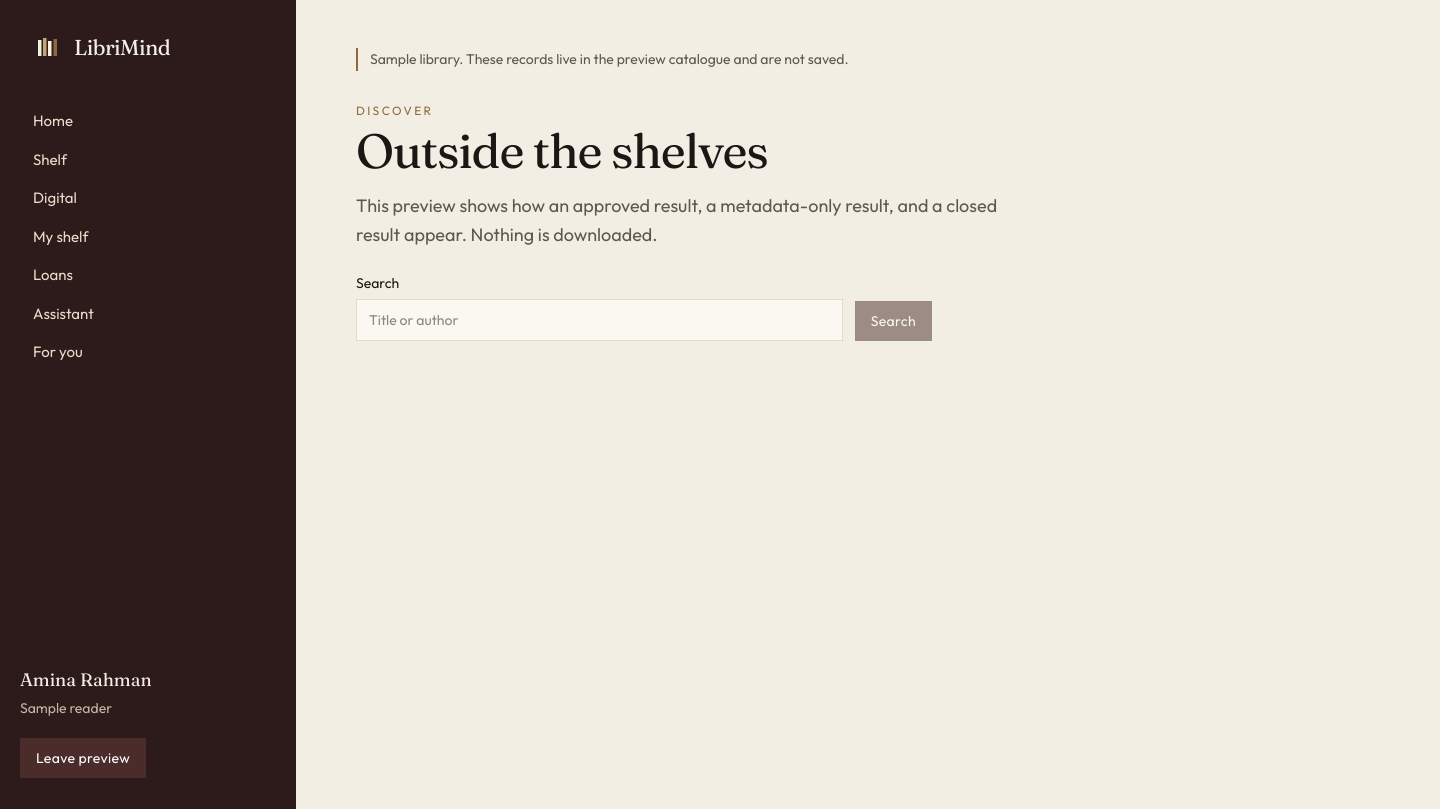
discover › shows a permitted result and a result that cannot be saved
Type "plato" into the field labelled "Search" at coordinates (599, 320), box [356, 299, 843, 341]
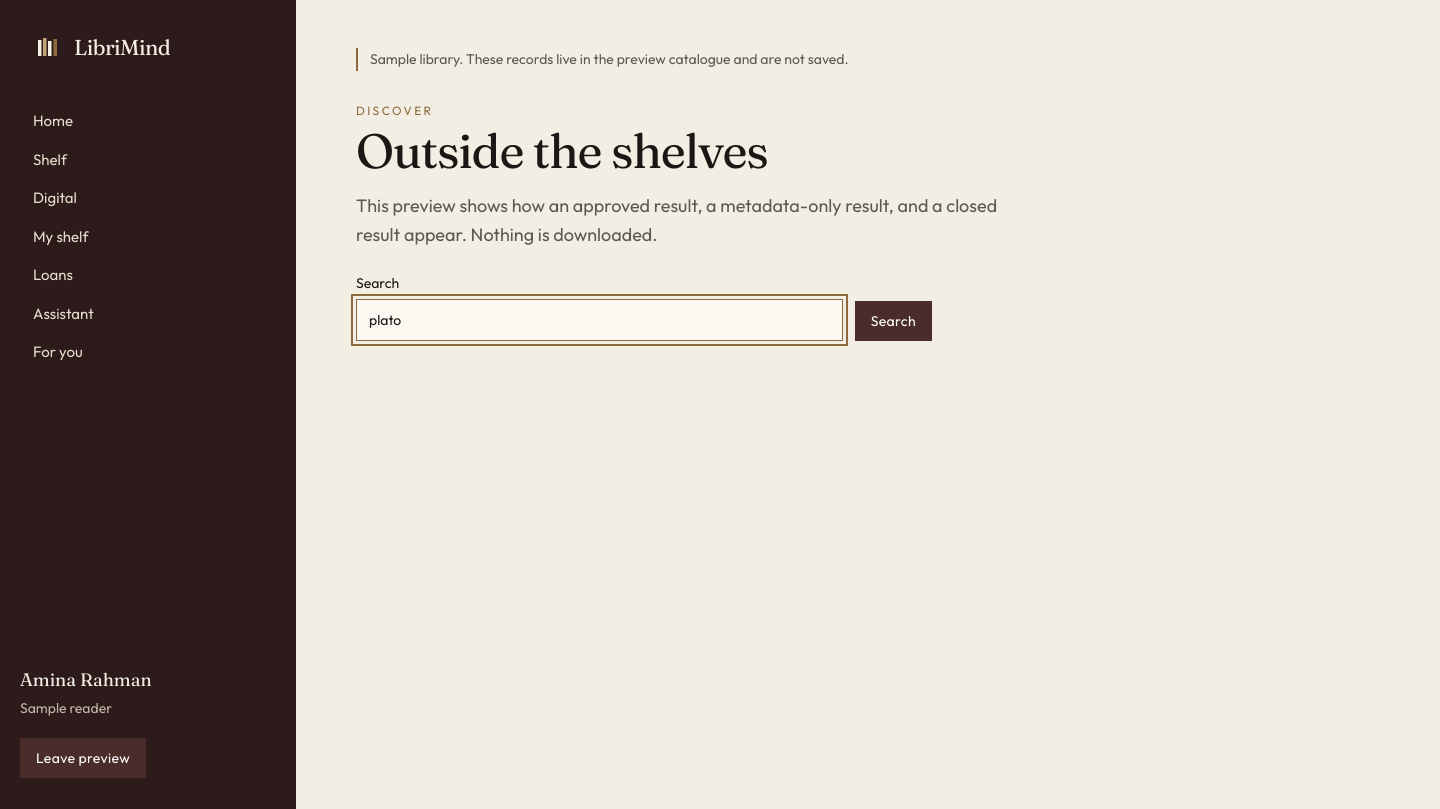
Click the button "Search" at coordinates (893, 321), box [855, 301, 932, 341]
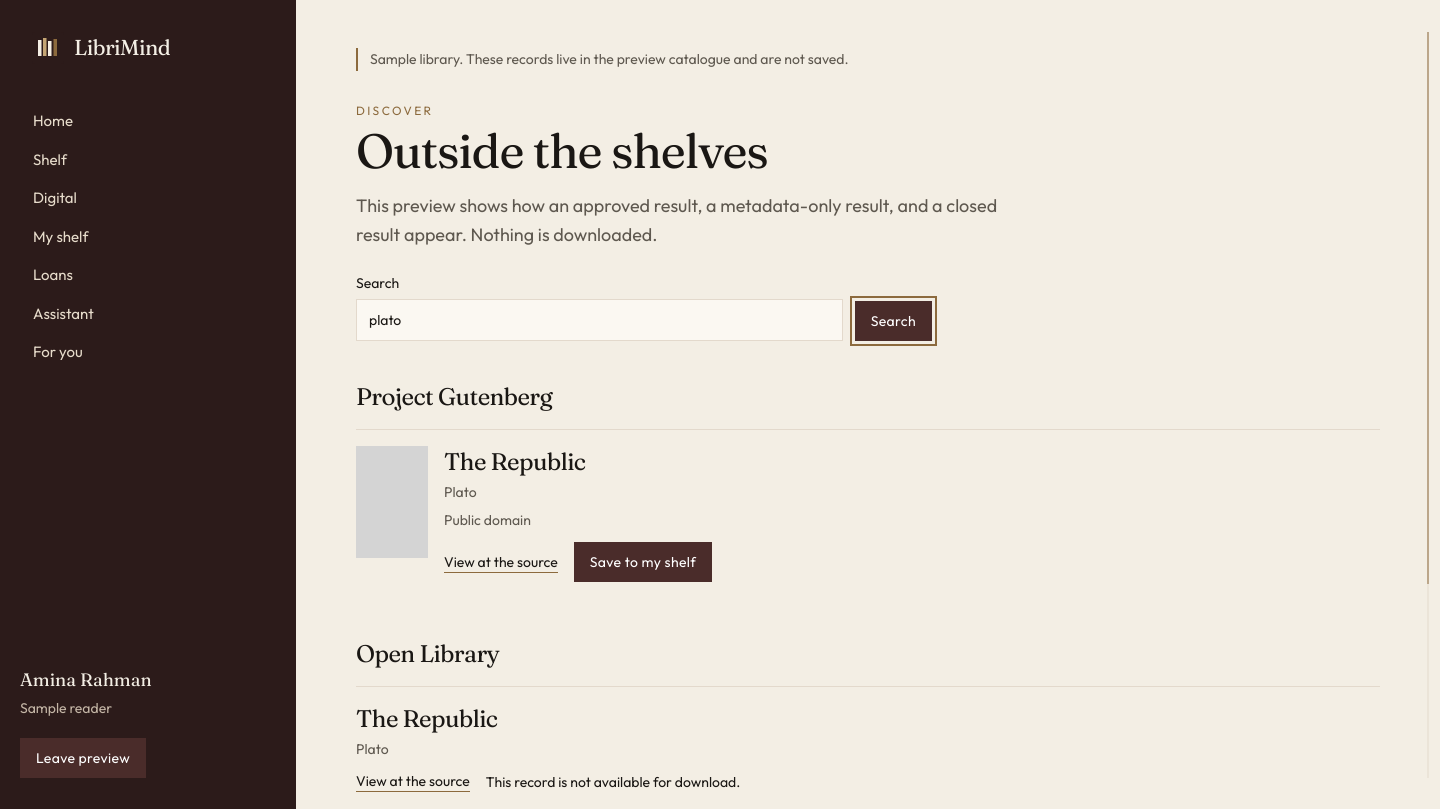
Expected: the button "Save to my shelf" is shown
Expected: the text "This record is not available for download." is shown, [486, 772, 740, 792]
Click the button "Save to my shelf" at coordinates (643, 562), box [574, 542, 712, 582]
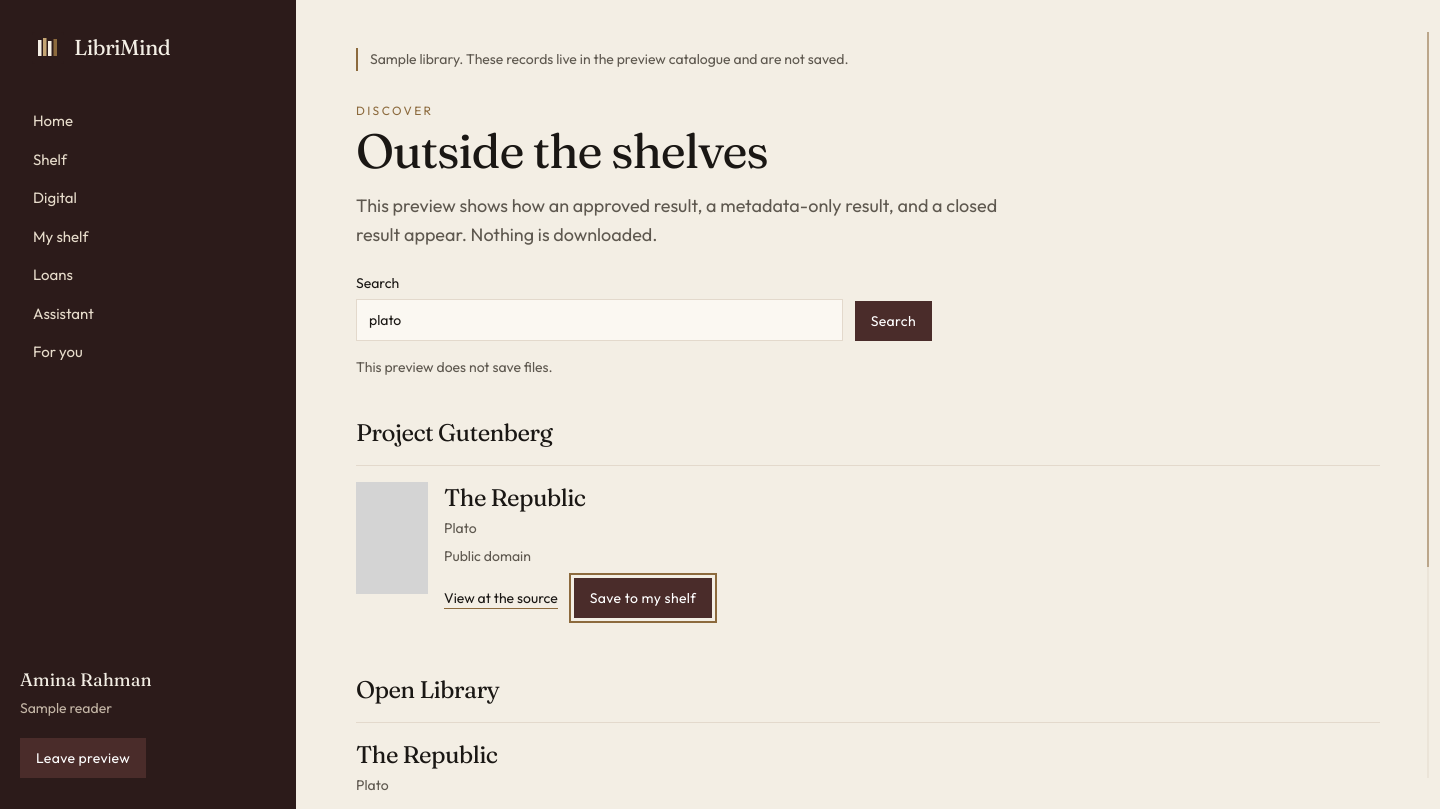
Expected: the text "This preview does not save files." is shown, [356, 358, 552, 376]
